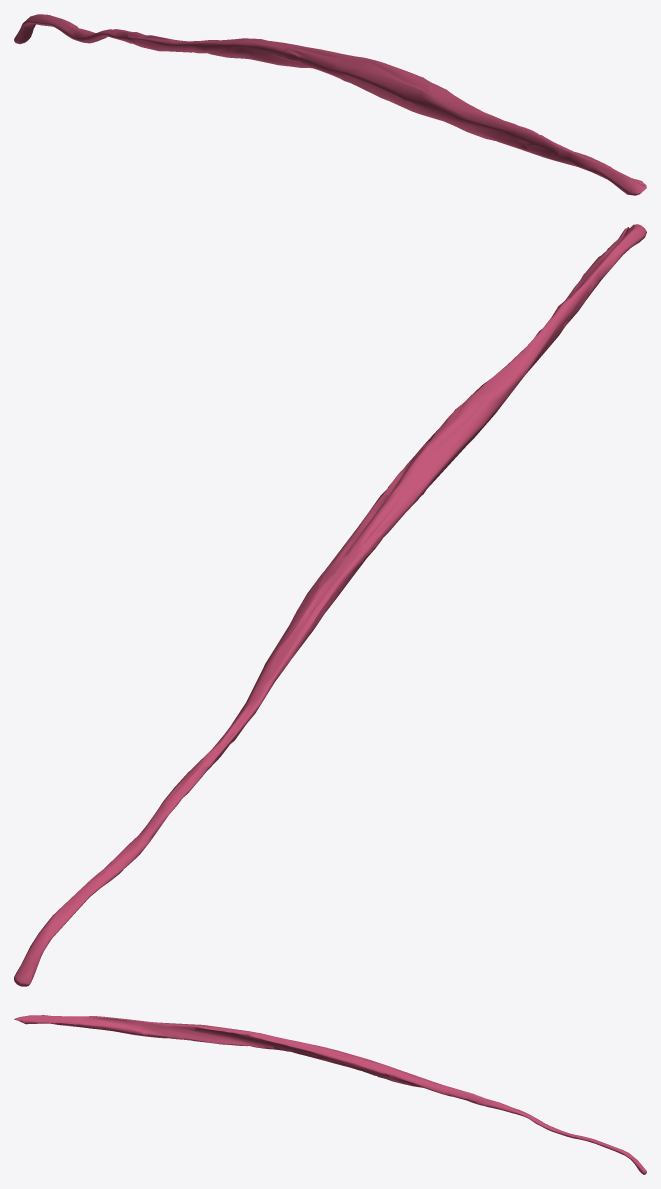
3 renders of one model, top to bottom at view 1: azimuth 30°, elevation 25°; view 2: azimuth 150°, elevation 25°; view 3: azimuth 270°, elevation 25°, orthographic. The views are drawn at different scales.
Visible parts, largest first — view 1: 右侧小指伸肌; view 2: 右侧小指伸肌; view 3: 右侧小指伸肌.
Boxes of the visible parts, left/top/right/bottom form: 右侧小指伸肌: left=14, top=14, right=646, bottom=195; 右侧小指伸肌: left=14, top=224, right=646, bottom=986; 右侧小指伸肌: left=14, top=1015, right=646, bottom=1174.
Size of the model in its own units: 0.0248 by 0.1364 by 0.4949.
